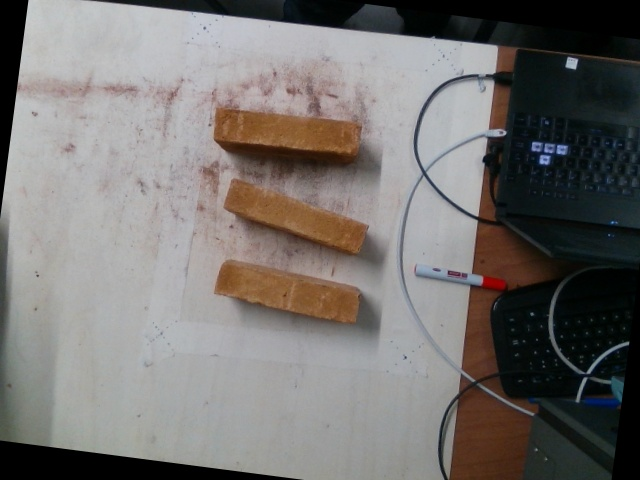brick-side: (226, 182, 368, 251), (215, 262, 358, 322), (214, 108, 357, 151)
